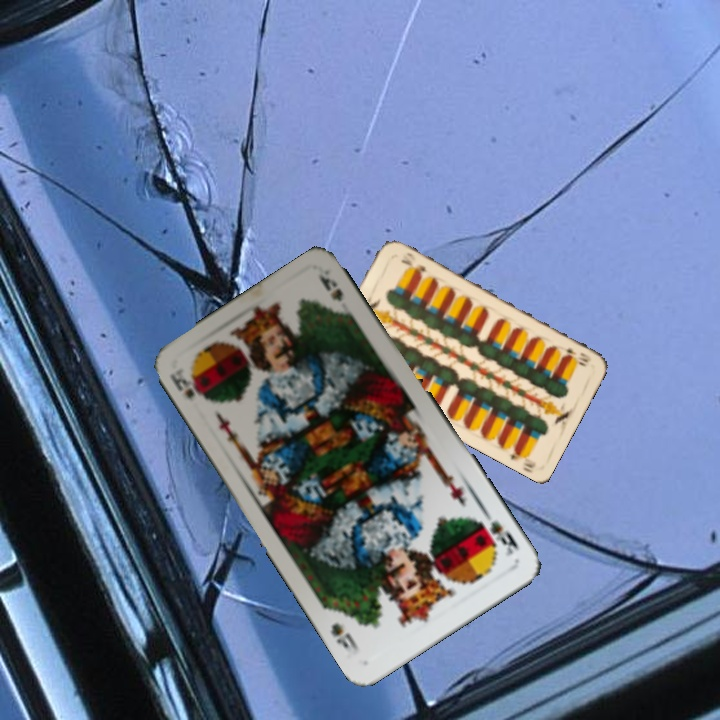E10: (562, 344, 594, 365)
SK: (476, 509, 523, 559), (166, 364, 209, 405)
